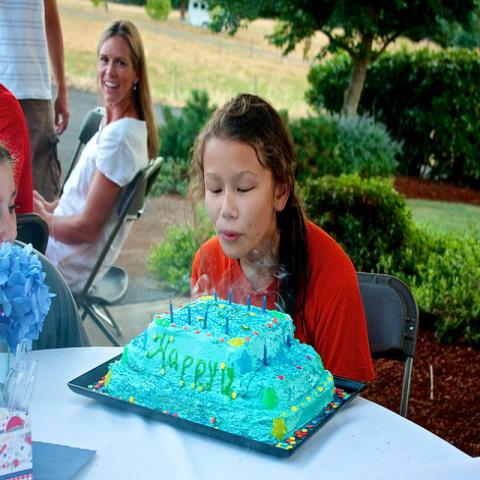car: (188, 0, 213, 32)
